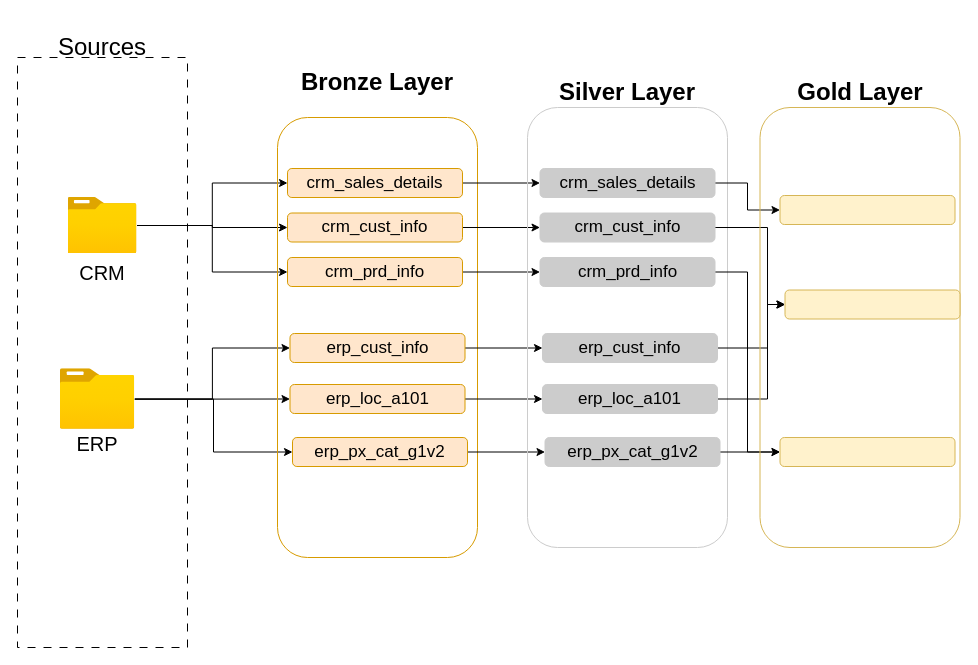
The diagram is 978 pixels wide and 665 high, and some of its shapes have lost their labels. The box of each missing label's shape, as (x1, y1, x2, y2) in pixels:
dim_customer: (784, 289, 960, 319)
dim_products: (779, 436, 955, 466)
fact_sales: (779, 194, 955, 224)
